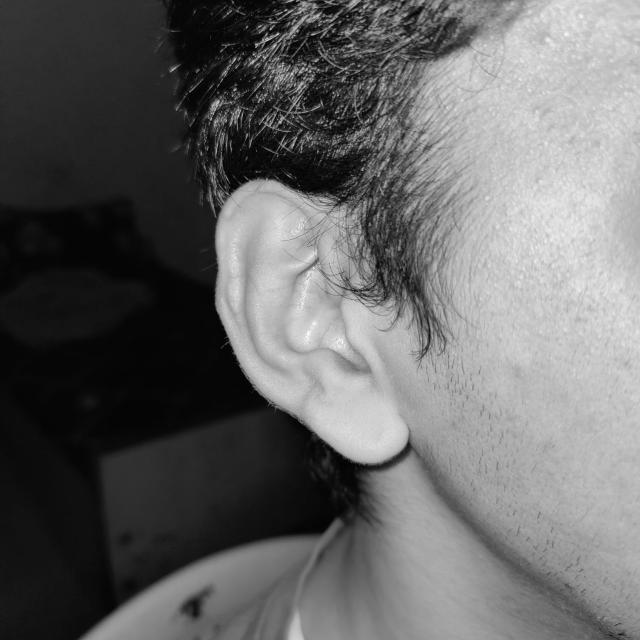ear: (216, 181, 409, 464)
